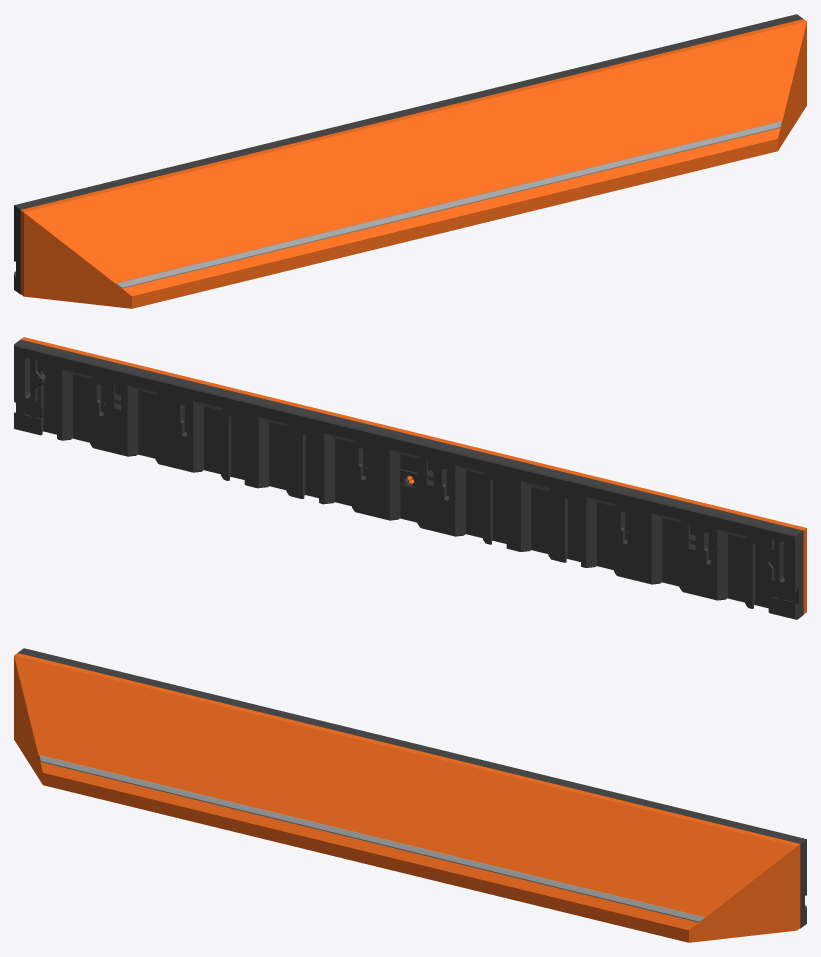
The model's file is Faceplate_ClassicDecor_3W-05H.lib.glb.
3 renders of one model, top to bottom at view 1: azimuth 30°, elevation 25°; view 2: azimuth 150°, elevation 25°; view 3: azimuth 330°, elevation 25°, orthographic.
Visible parts, largest first — view 1: Faceplate_ClassicDecor_3W-05H; view 2: Faceplate_ClassicDecor_3W-05H; view 3: Faceplate_ClassicDecor_3W-05H.
Part boxes in pixels (x1=…): Faceplate_ClassicDecor_3W-05H: x1=14, y1=14, x2=806, y2=308; Faceplate_ClassicDecor_3W-05H: x1=14, y1=337, x2=806, y2=619; Faceplate_ClassicDecor_3W-05H: x1=14, y1=648, x2=806, y2=942.
Bounding box in the file's own units: 263 × 27.16 × 29.18.
